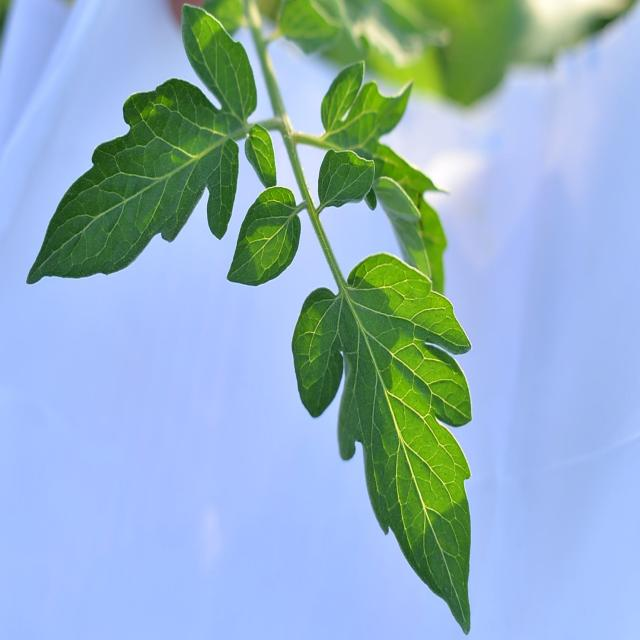healthy: (15, 2, 306, 291), (289, 248, 484, 638), (312, 57, 448, 234)
